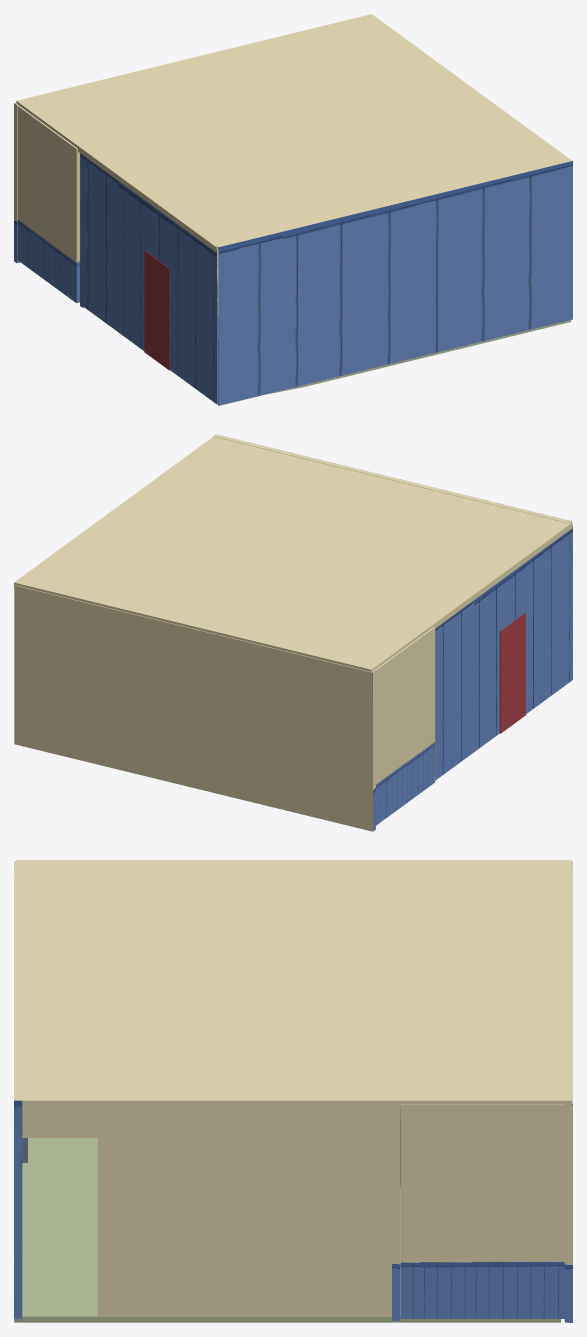
Rendered from casita.obj.
3 views of the same model, one above another, from view 1: azimuth 30°, elevation 25°; view 2: azimuth 150°, elevation 25°; view 3: azimuth 270°, elevation 25° (orthographic). The views are drawn at different scales.
Parts seen in each view (by area): view 1: casita:pCube14, casita:pCube4polySurface4, casita:pCube2, casita:pCube1, casita:pCube5, casita:pCube4, casita:pCube4polySurface3group; view 2: casita:pCube14, casita:pCube4polySurface3group, casita:pCube2, casita:pCube1, casita:pCube5, casita:pCube4polySurface4; view 3: casita:pCube14, casita:pCube8, casita:pCube13, casita:pCube4, casita:pCube4polySurface4, casita:pCube4polySurface3group, casita:pCube4polySurface5.
Part boxes in pixels (x1=…): casita:pCube14: x1=16, y1=14, x2=568, y2=252; casita:pCube4polySurface4: x1=216, y1=158, x2=572, y2=405; casita:pCube2: x1=80, y1=153, x2=218, y2=404; casita:pCube1: x1=17, y1=105, x2=79, y2=303; casita:pCube5: x1=144, y1=250, x2=169, y2=370; casita:pCube4: x1=266, y1=320, x2=571, y2=394; casita:pCube4polySurface3group: x1=14, y1=103, x2=20, y2=263; casita:pCube14: x1=14, y1=436, x2=572, y2=671; casita:pCube4polySurface3group: x1=14, y1=585, x2=375, y2=831; casita:pCube2: x1=435, y1=525, x2=572, y2=780; casita:pCube1: x1=375, y1=627, x2=434, y2=825; casita:pCube5: x1=499, y1=613, x2=525, y2=733; casita:pCube4polySurface4: x1=213, y1=434, x2=571, y2=523; casita:pCube14: x1=16, y1=860, x2=571, y2=1108; casita:pCube8: x1=22, y1=1108, x2=391, y2=1316; casita:pCube13: x1=400, y1=1104, x2=564, y2=1318; casita:pCube4: x1=14, y1=1138, x2=560, y2=1322; casita:pCube4polySurface4: x1=14, y1=861, x2=22, y2=1320; casita:pCube4polySurface3group: x1=564, y1=862, x2=572, y2=1322; casita:pCube4polySurface5: x1=392, y1=1108, x2=400, y2=1320.
Size of the model in its own units: 16.36 by 7.02 by 15.96.
